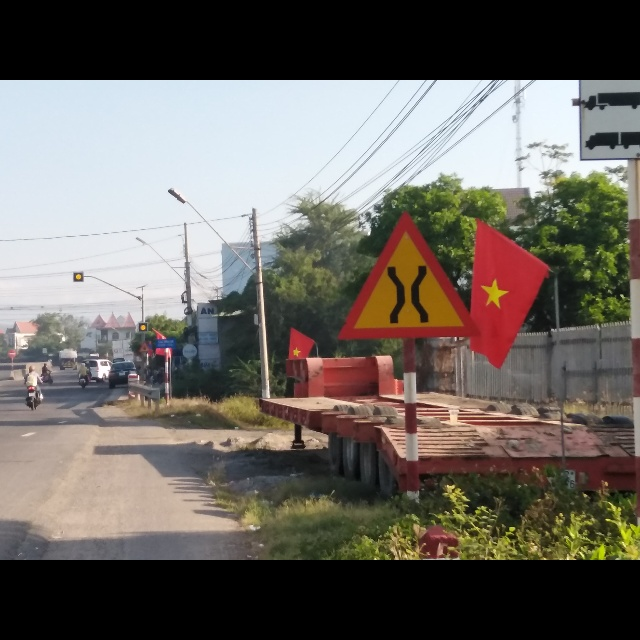Cầu hẹp: (333, 206, 480, 342)
